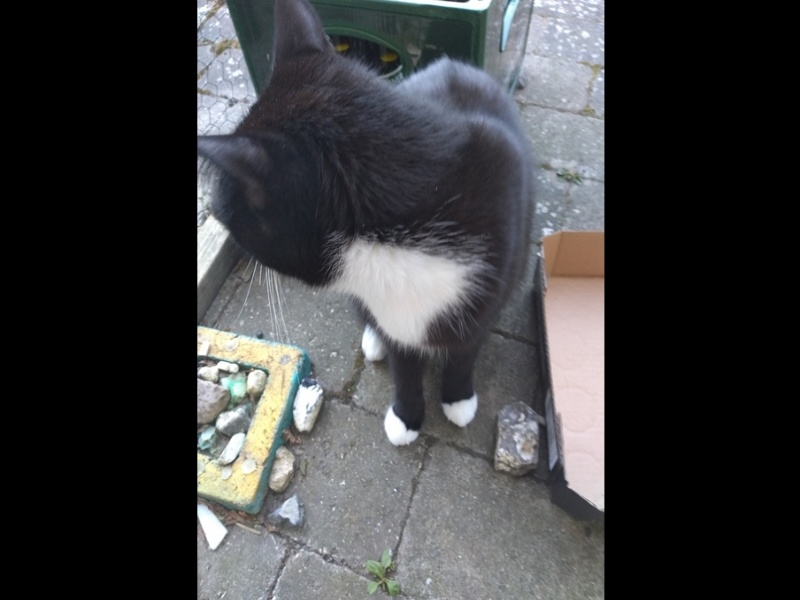cat: (198, 7, 540, 455)
